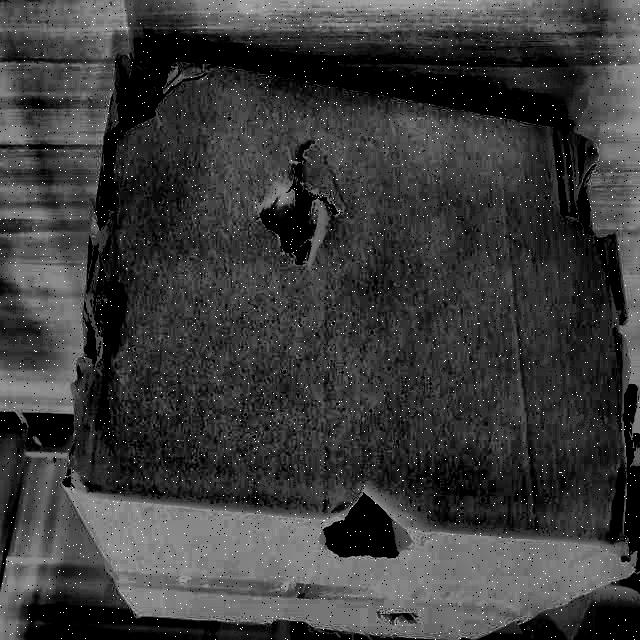box: (51, 41, 637, 640)
hole: (81, 52, 177, 377), (550, 132, 630, 248), (258, 169, 342, 279), (317, 478, 419, 559), (606, 384, 640, 562)
